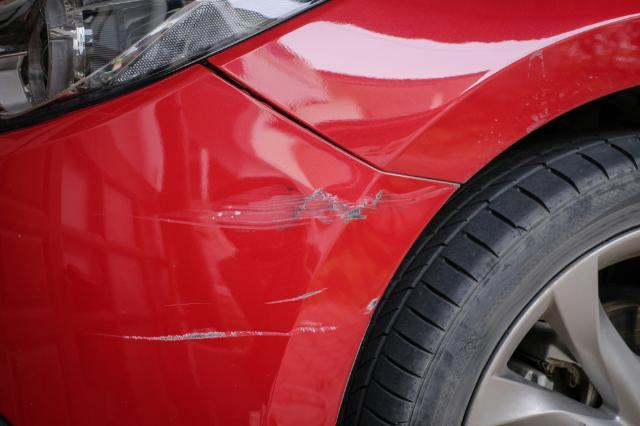scratch: (103, 284, 379, 344), (141, 183, 454, 231)
